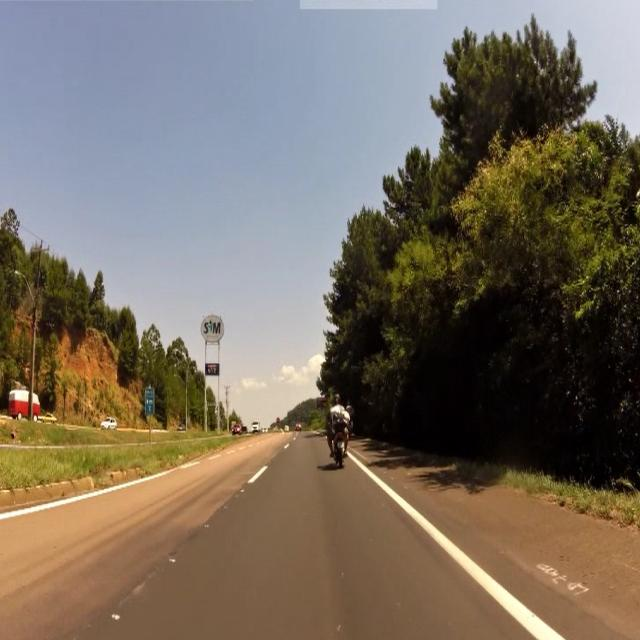RQ: (146, 388, 155, 420)
